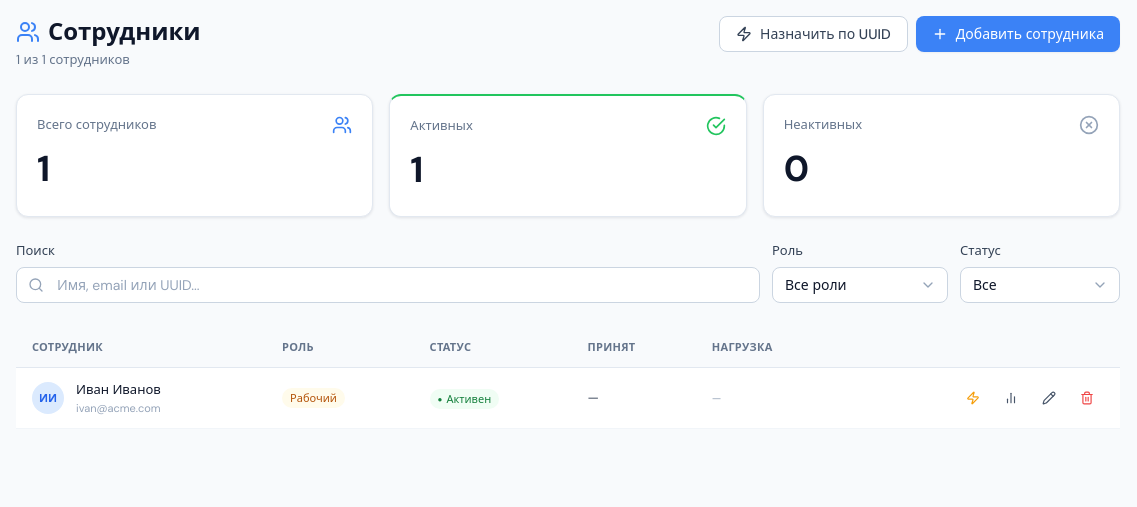
Test: EmployeesPage › shows not-found empty state when search has no results
Type "НеСуществует" into the field with placeholder "Имя, email или UUID...".
click(388, 285); type("НеСуществует")  # box [16,267,760,303]
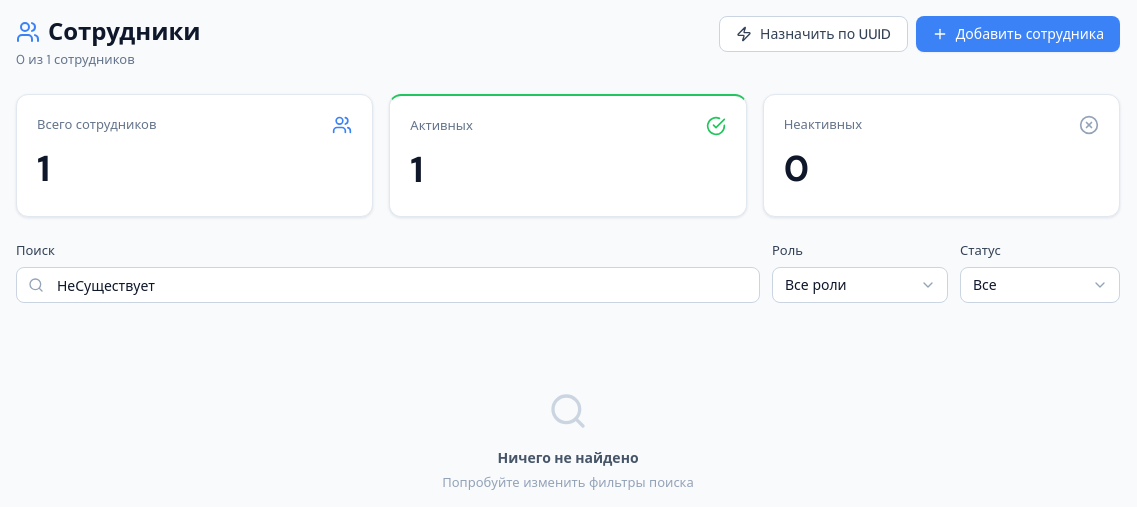
Expected: the heading "Ничего не найдено" is shown, [497,447,639,469]
